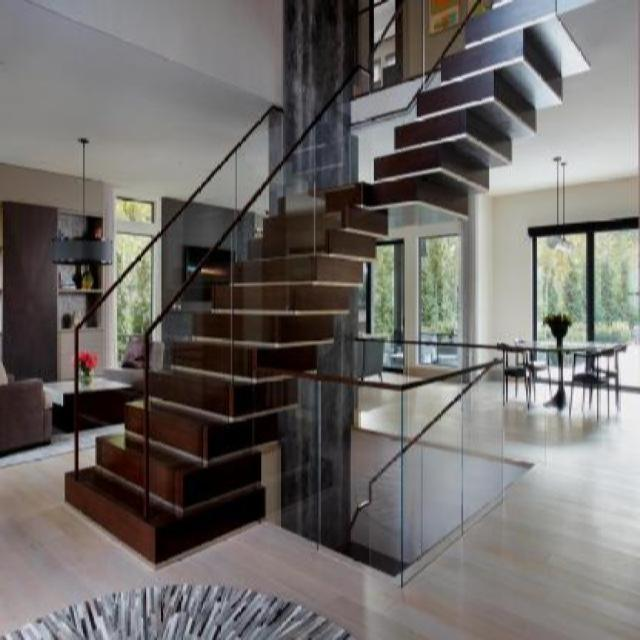stair: (43, 148, 420, 550)
